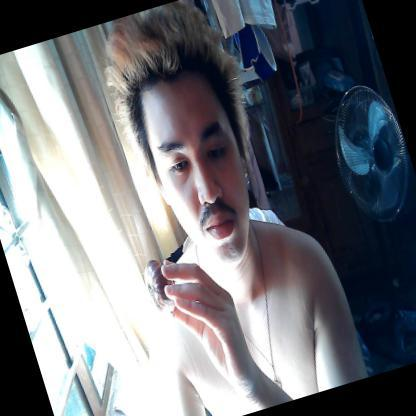onion: (136, 250, 186, 326)
